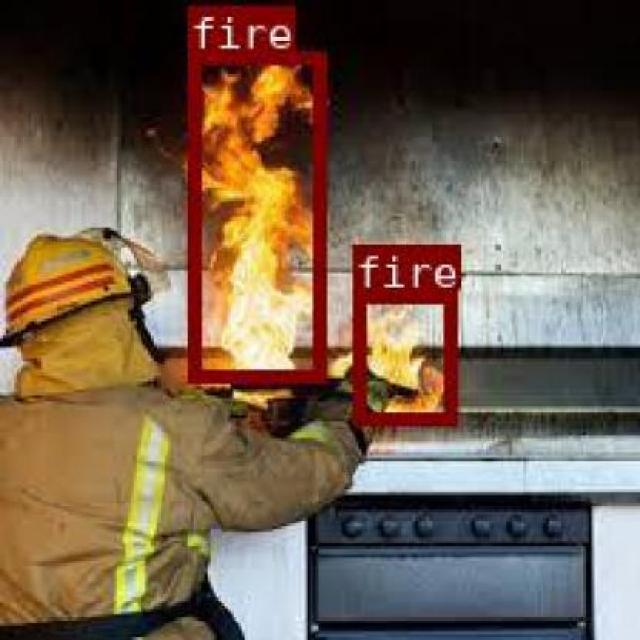Fire: (188, 49, 324, 378), (352, 290, 454, 422)
